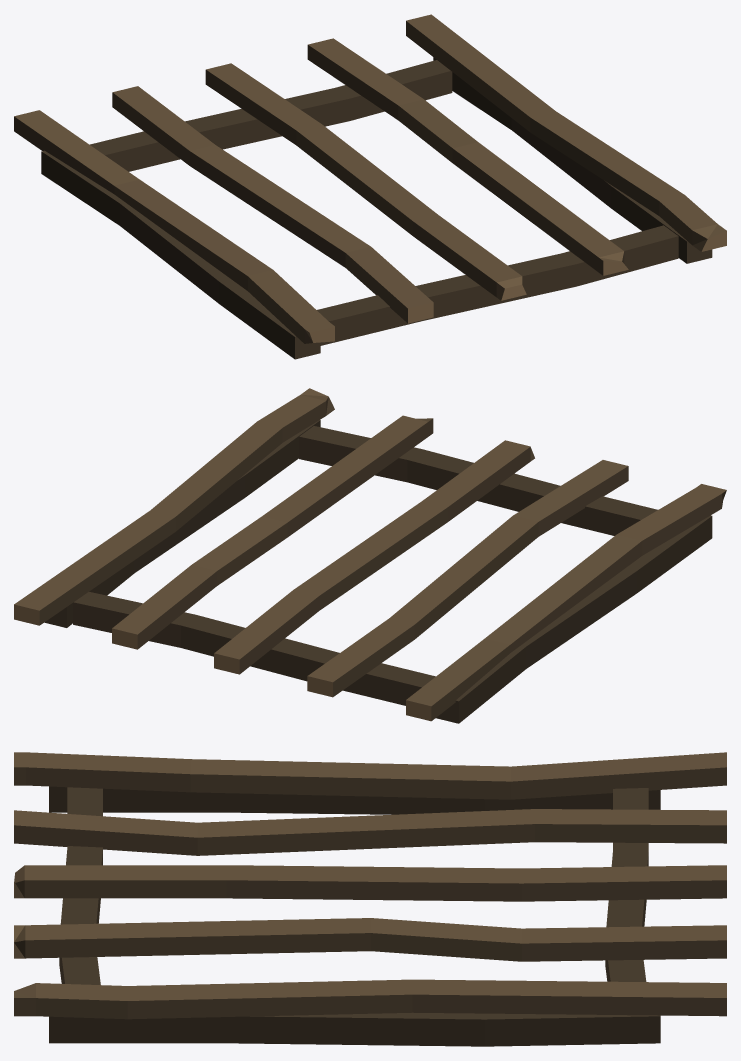
Rendered from SM_Bld_Village_Top_01.fbx.
3 views of the same model, one above another, from view 1: azimuth 30°, elevation 25°; view 2: azimuth 150°, elevation 25°; view 3: azimuth 270°, elevation 25° (orthographic). The views are drawn at different scales.
Visible parts, largest first — view 1: SM_Bld_Village_Top_01; view 2: SM_Bld_Village_Top_01; view 3: SM_Bld_Village_Top_01.
Boxes of the visible parts, <box> form: SM_Bld_Village_Top_01: <box>14,14,726,359</box>; SM_Bld_Village_Top_01: <box>14,388,726,723</box>; SM_Bld_Village_Top_01: <box>14,752,726,1046</box>.
Size of the model in its own units: 0.0358 by 0.00342 by 0.0433.
1 material, 1 textured.
